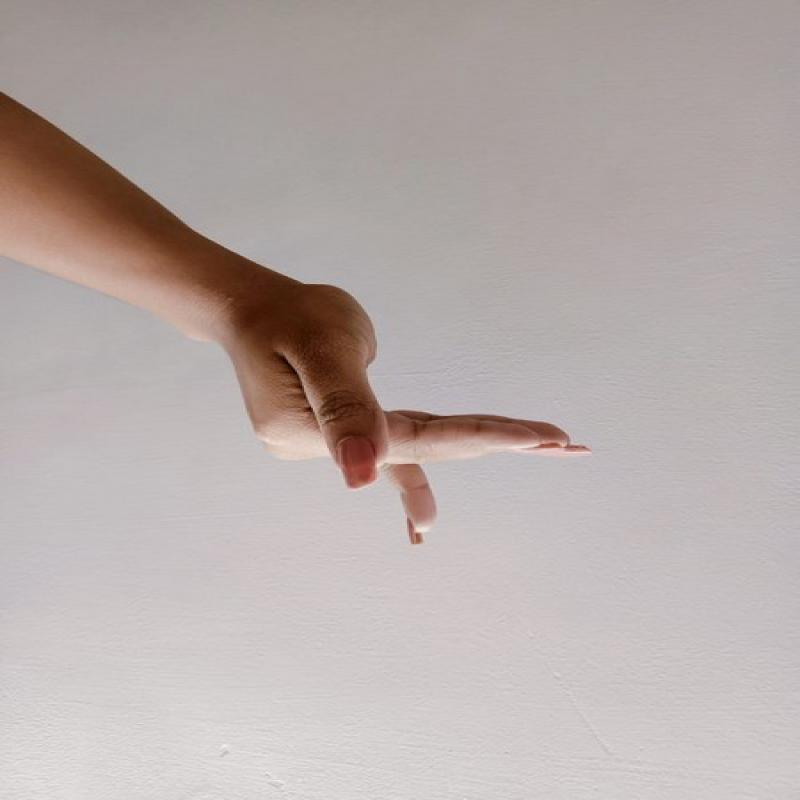Kartharee Mukham: (215, 263, 608, 556)
